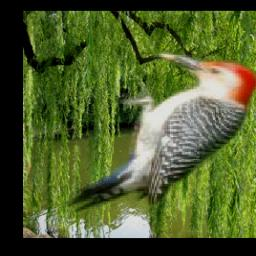Woodpecker: (54, 46, 256, 218)
